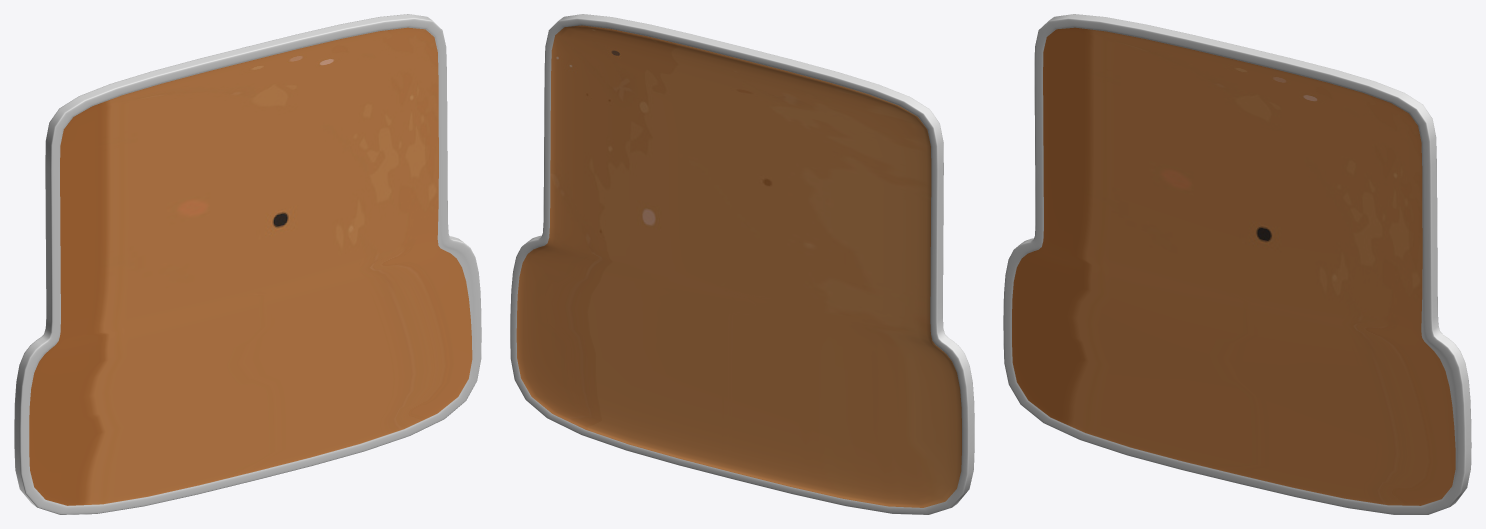
The model's file is uploads_files_4297585_BreadEmojinewAnimated.fbx.
3 views of the same model, side by side, from view 1: azimuth 30°, elevation 25°; view 2: azimuth 150°, elevation 25°; view 3: azimuth 330°, elevation 25° (orthographic).
Visible parts, largest first — view 1: bread slice; view 2: bread slice; view 3: bread slice.
Part boxes in pixels (x1,y1,x2,y2): bread slice: (14, 14, 481, 514); bread slice: (510, 14, 974, 514); bread slice: (1003, 14, 1471, 514).
Bounding box in the file's own units: 4.31 × 3.85 × 0.1264.
